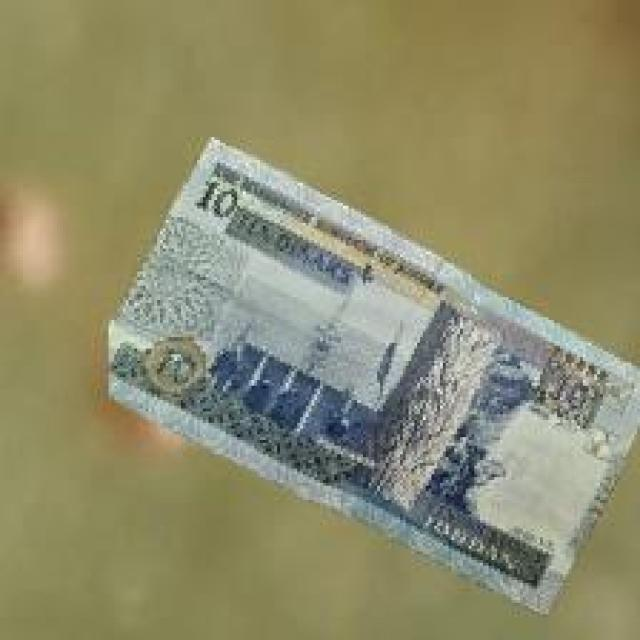10-dinar: (107, 139, 640, 615)
